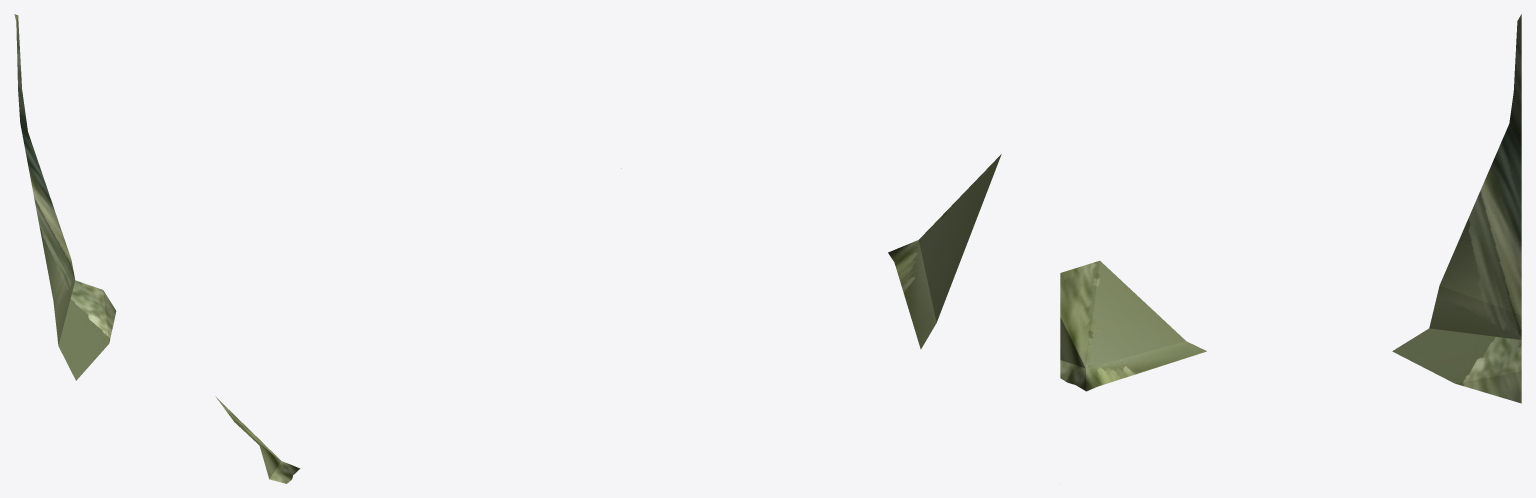
The picture shows the model from 3 angles, left to right: view 1: azimuth 30°, elevation 25°; view 2: azimuth 150°, elevation 25°; view 3: azimuth 270°, elevation 25°; orthographic projection. The views are drawn at different scales.
Size of the model in its own units: 2.01 by 2.38 by 2.95.
1 material, 1 textured.
